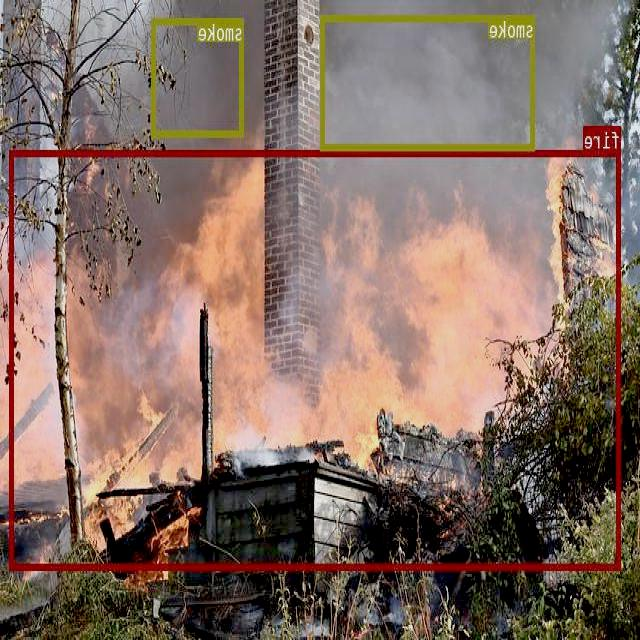fire: (11, 150, 622, 570)
smoke: (321, 14, 535, 150), (153, 16, 245, 136)
